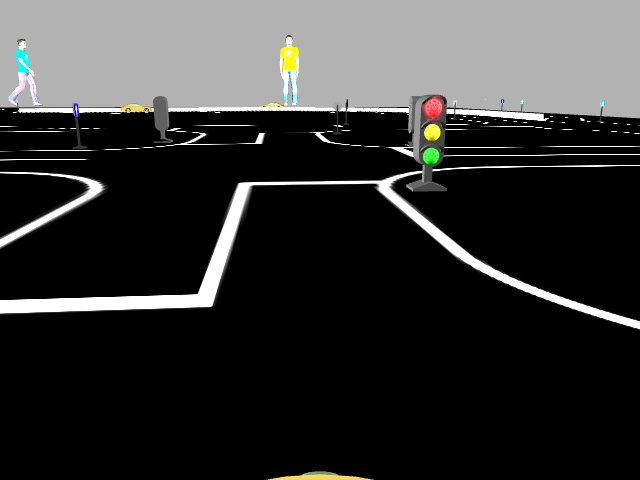TrafficLight: (412, 96, 446, 166)
